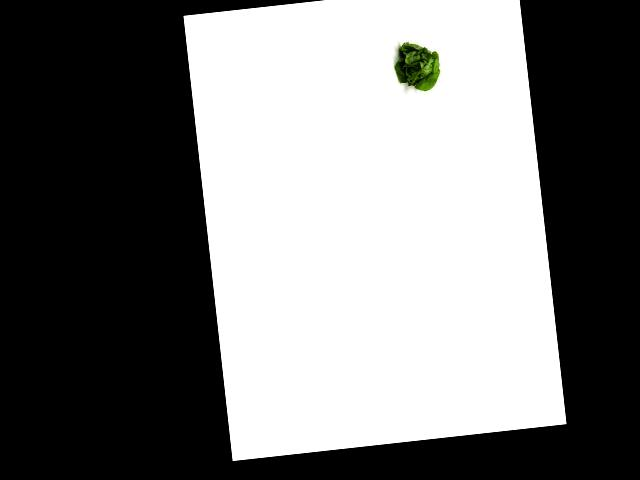lettuce: (389, 37, 446, 95)
